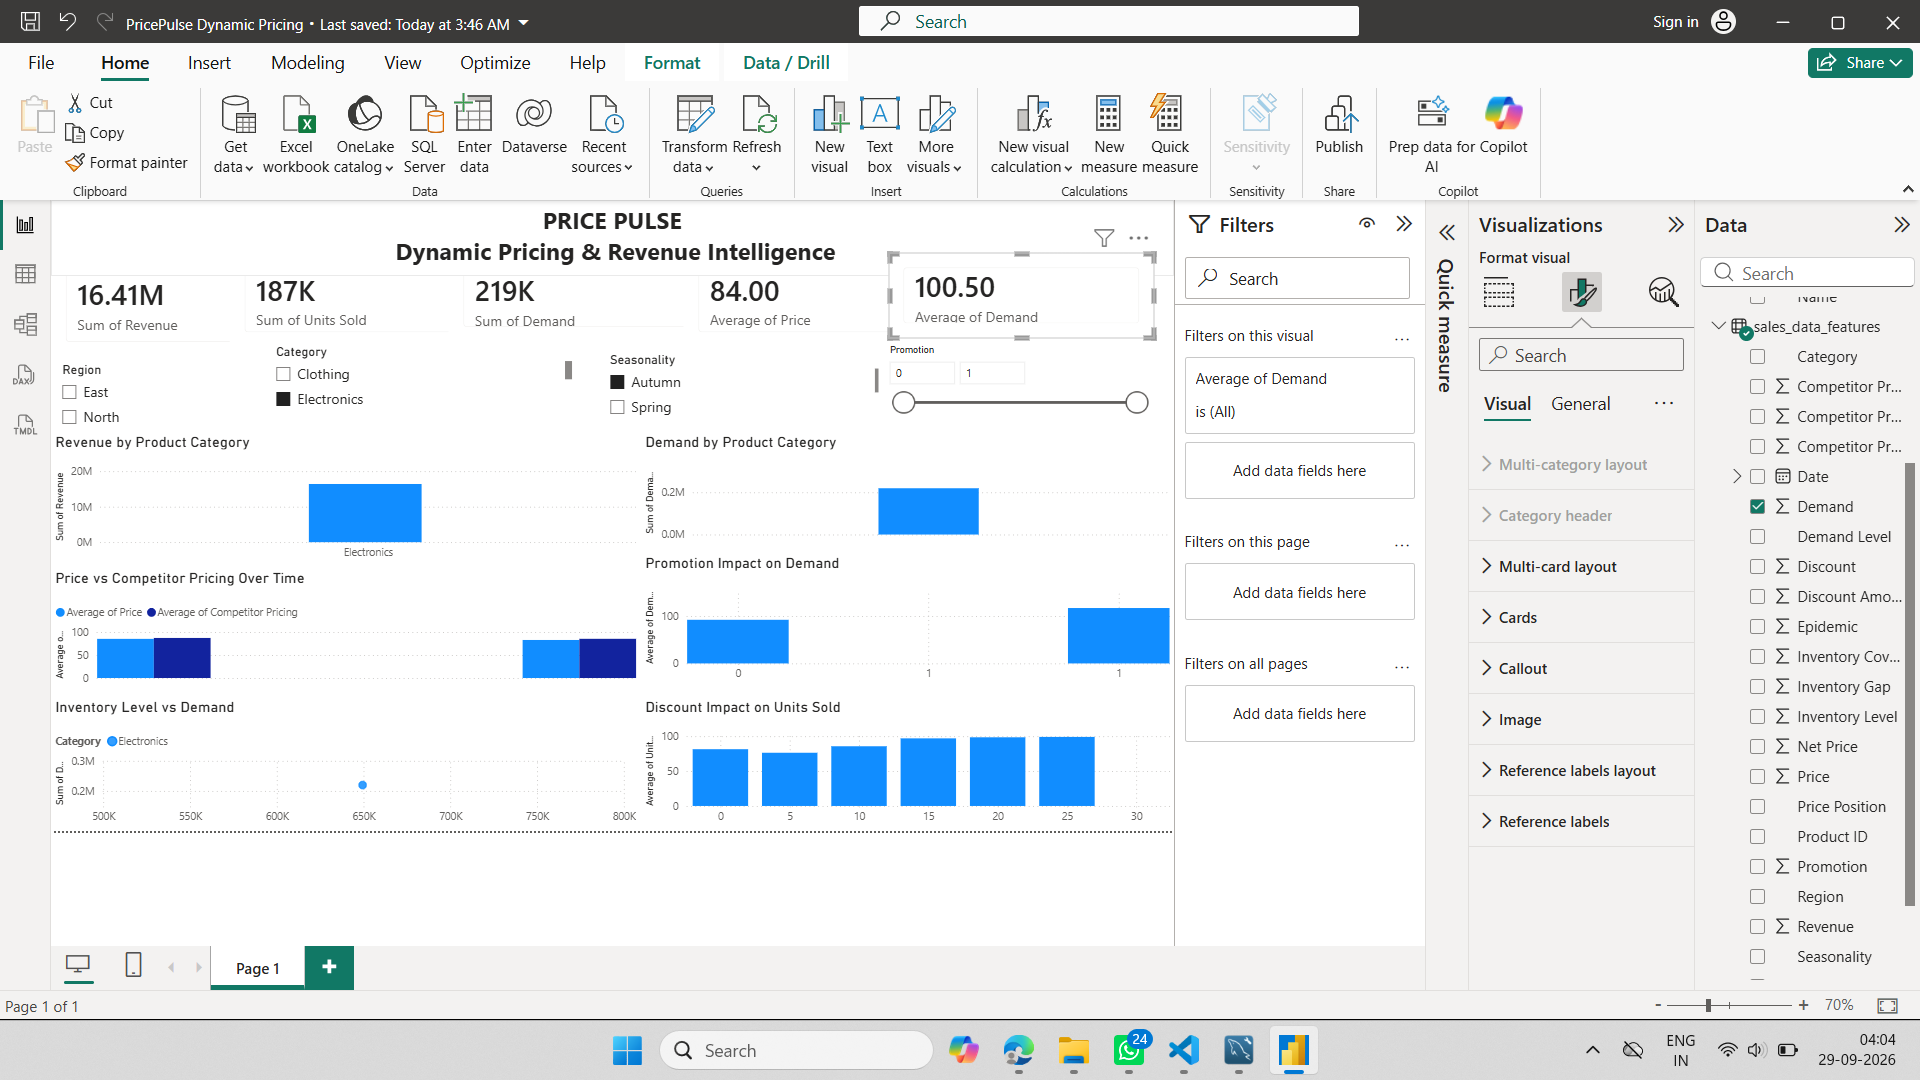

This screenshot's page, from the dashboard's own definition file:
{"tool":"powerbi","page":{"name":"Page 1","canvas":[1280,720],"ordinal":0},"visuals":[{"type":"cardVisual","fields":{"Data":["Sum(sales_data_features.Revenue)"]},"box":[0,57.6,244.3,122.1],"z":0},{"type":"cardVisual","fields":{"Data":["Sum(sales_data_features.Units Sold)"]},"box":[204.5,57.6,290.9,111.1],"z":1},{"type":"cardVisual","fields":{"Data":["Sum(sales_data_features.Demand)"]},"box":[452.8,64.5,293.7,98.8],"z":2},{"type":"cardVisual","fields":{"Data":["Avg(sales_data_features.Price)"]},"box":[721.8,57.6,255.2,111.1],"z":3},{"type":"cardVisual","fields":{"Data":["Avg(sales_data_features.Demand)"]},"box":[977,70,303.3,98.8],"z":4},{"type":"clusteredColumnChart","title":"Revenue by Product Category","fields":{"Category":["sales_data_features.Category"],"Y":["Sum(sales_data_features.Revenue)"]},"box":[0,264.8,672.4,155.1],"z":5},{"type":"clusteredColumnChart","title":"Demand by Product Category","fields":{"Category":["sales_data_features.Category"],"Y":["Sum(sales_data_features.Demand)"]},"box":[672.4,264.8,607.9,130.4],"z":6},{"type":"clusteredColumnChart","title":"Price vs Competitor Pricing Over Time","fields":{"Category":["sales_data_features.Date.Variation.Date Hierarchy.Year","sales_data_features.Date.Variation.Date Hierarchy.Quarter","sales_data_features.Date.Variation.Date Hierarchy.Month","sales_data_features.Date.Variation.Date Hierarchy.Day"],"Y":["Avg(sales_data_features.Price)","Avg(sales_data_features.Competitor Pricing)"]},"box":[0,419.9,672.4,138.6],"z":7},{"type":"clusteredColumnChart","title":"Promotion Impact on Demand","fields":{"Category":["sales_data_features.Promotion"],"Y":["Avg(sales_data_features.Demand)"]},"box":[672.4,403.4,607.9,155.1],"z":8},{"type":"clusteredColumnChart","title":"Discount Impact on Units Sold","fields":{"Category":["sales_data_features.Discount"],"Y":["Avg(sales_data_features.Units Sold)"]},"box":[672.4,566.7,607.9,153.7],"z":9},{"type":"textbox","box":[0,0,1280.3,86.4],"z":12},{"type":"scatterChart","title":"Inventory Level vs Demand","fields":{"X":["Sum(sales_data_features.Inventory Level)"],"Y":["Sum(sales_data_features.Demand)"],"Series":["sales_data_features.Category"]},"box":[0,566.7,672.4,153.7],"z":13},{"type":"slicer","fields":{"Values":["sales_data_features.Region"]},"box":[0,179.8,336.2,85.1],"z":14},{"type":"slicer","fields":{"Values":["sales_data_features.Category"]},"box":[244.3,159.2,355.4,85.1],"z":15},{"type":"slicer","fields":{"Values":["sales_data_features.Seasonality"]},"box":[624.4,168.8,328,85.1],"z":16},{"type":"slicer","fields":{"Values":["sales_data_features.Promotion"]},"box":[944.1,159.2,315.6,105.7],"z":17}]}

Visuals, with their boxes on the page's 1280x720 design canvas (x1, y1, x2, y2). These are canvas units, not pixel positions in the 1920x1080 screenshot, which may show the page scaled, cropped or inside an application window:
cardVisual - Sum(sales_data_features.Revenue): box=[0, 58, 244, 180]
cardVisual - Sum(sales_data_features.Units Sold): box=[204, 58, 495, 169]
cardVisual - Sum(sales_data_features.Demand): box=[453, 64, 746, 163]
cardVisual - Avg(sales_data_features.Price): box=[722, 58, 977, 169]
cardVisual - Avg(sales_data_features.Demand): box=[977, 70, 1280, 169]
"Revenue by Product Category" clusteredColumnChart: box=[0, 265, 672, 420]
"Demand by Product Category" clusteredColumnChart: box=[672, 265, 1280, 395]
"Price vs Competitor Pricing Over Time" clusteredColumnChart: box=[0, 420, 672, 558]
"Promotion Impact on Demand" clusteredColumnChart: box=[672, 403, 1280, 558]
"Discount Impact on Units Sold" clusteredColumnChart: box=[672, 567, 1280, 720]
textbox: box=[0, 0, 1280, 86]
"Inventory Level vs Demand" scatterChart: box=[0, 567, 672, 720]
slicer - sales_data_features.Region: box=[0, 180, 336, 265]
slicer - sales_data_features.Category: box=[244, 159, 600, 244]
slicer - sales_data_features.Seasonality: box=[624, 169, 952, 254]
slicer - sales_data_features.Promotion: box=[944, 159, 1260, 265]
